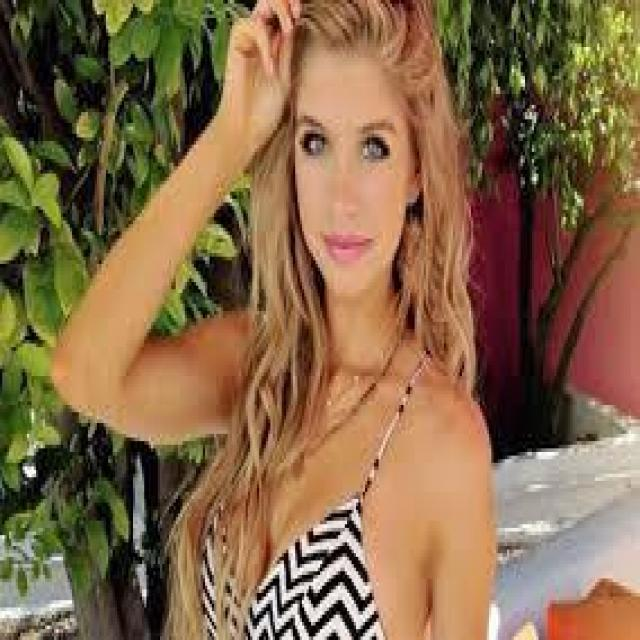person: (119, 0, 513, 636)
